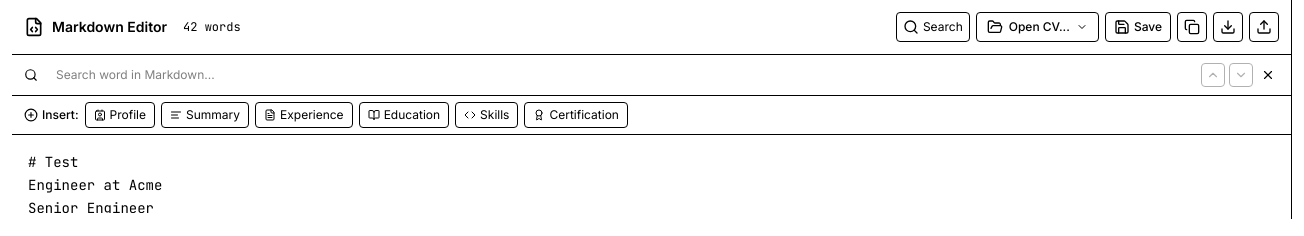
Test: MarkdownEditor search highlighting and navigation › renders highlights in the backdrop when matching query is typed
The width and height of the screenshot is (1304, 236).
Type "Engineer" into the field with placeholder "Search word in Markdown..." at (206, 75), box [46, 63, 366, 87]
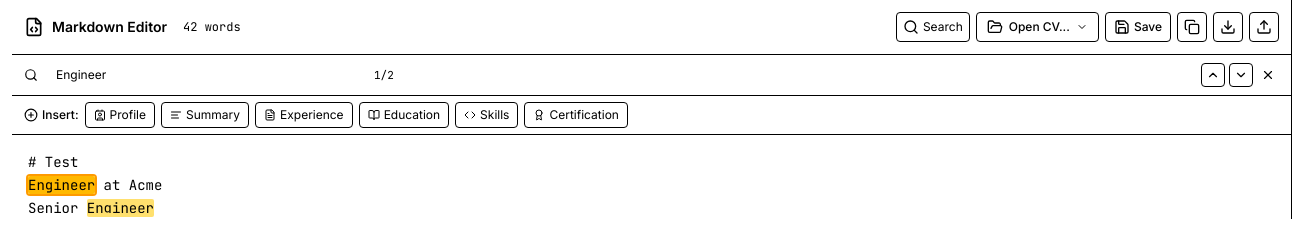
Expected: the element with test id "editor-search-backdrop" is shown, [28, 153, 162, 216]
Expected: the text "Engineer" is shown, [28, 176, 95, 194]
